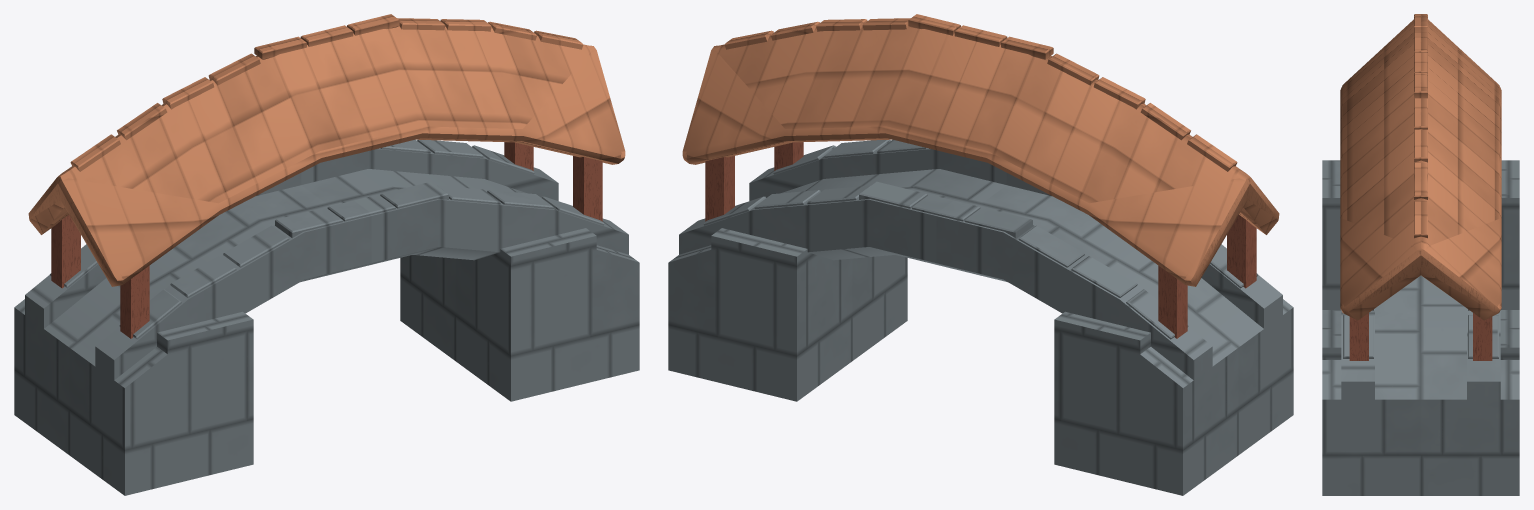
Rendered from medieval-bridge_roofed.glb.
3 renders of one model, left to right at view 1: azimuth 30°, elevation 25°; view 2: azimuth 150°, elevation 25°; view 3: azimuth 270°, elevation 25°, orthographic. The views are drawn at different scales.
Parts seen in each view (by area): view 1: bridge_roofed; view 2: bridge_roofed; view 3: bridge_roofed.
Boxes of the visible parts, x1=… form: bridge_roofed: x1=14, y1=14, x2=639, y2=495; bridge_roofed: x1=668, y1=14, x2=1293, y2=495; bridge_roofed: x1=1322, y1=14, x2=1519, y2=495.
Bounding box in the file's own units: 2.09 × 1.34 × 0.7438.
Materials: 4 (4 with a texture image).
